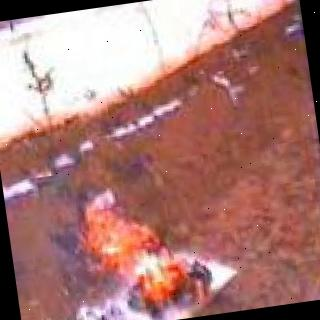fire: (73, 173, 220, 320)
